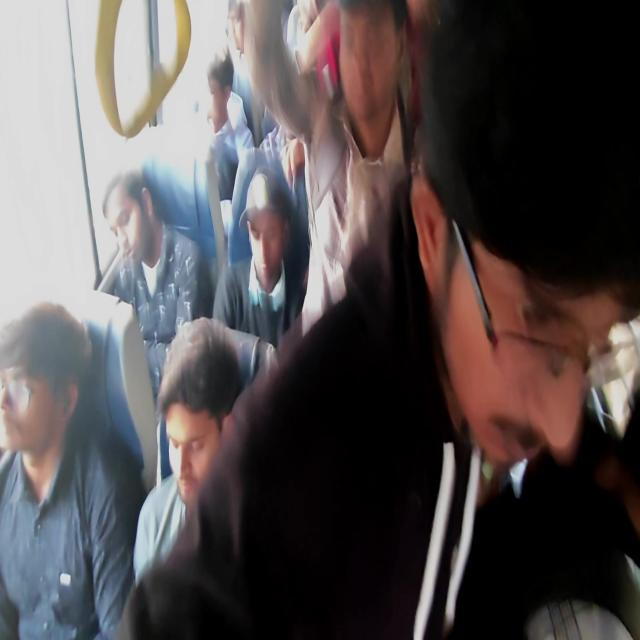person: (386, 174, 574, 555), (4, 323, 133, 614), (101, 160, 176, 336), (333, 9, 415, 164), (151, 380, 238, 501), (239, 160, 307, 285), (256, 74, 316, 176), (191, 52, 252, 136), (222, 0, 258, 52)
